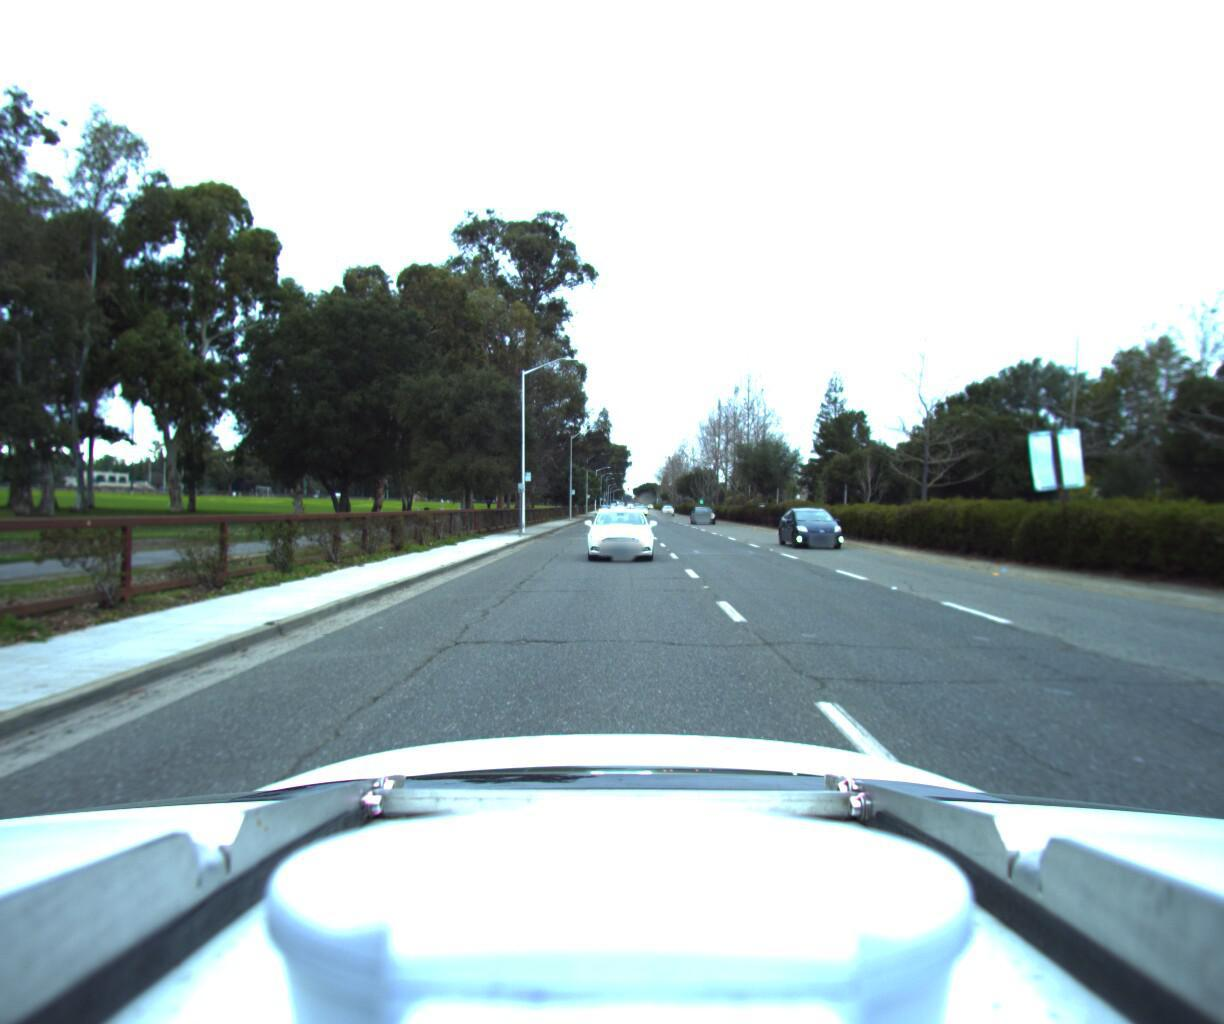car: (586, 499, 651, 558), (784, 501, 855, 548), (691, 497, 717, 516)
